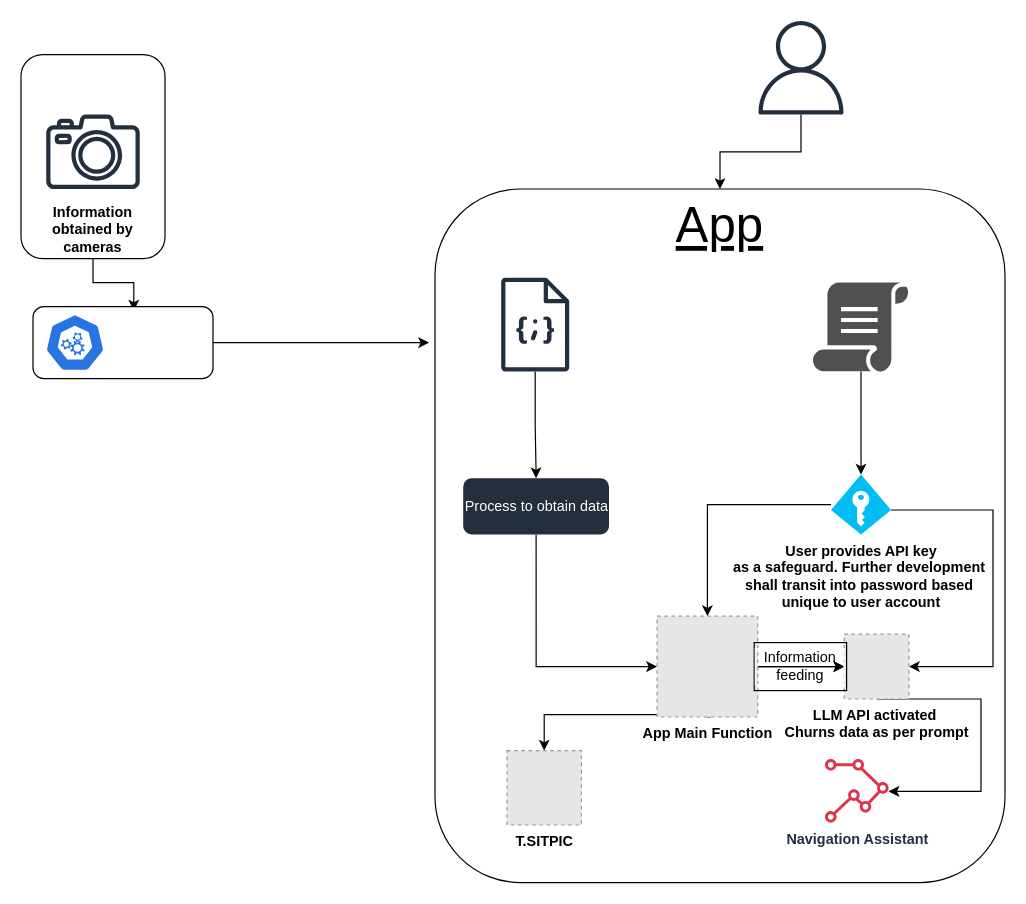
Image size: 1026x904. Some labels were removed from this diagram. Grey dashed boxes stand in for pictures. The box of each missing label's shape, as (x1, y1, x2, y2) in pixels:
API: (32, 305, 213, 379)
JSON Data of details obtained by camera (e.g image): (500, 277, 569, 371)
Python Script: (812, 282, 908, 371)
User: (754, 20, 847, 114)
